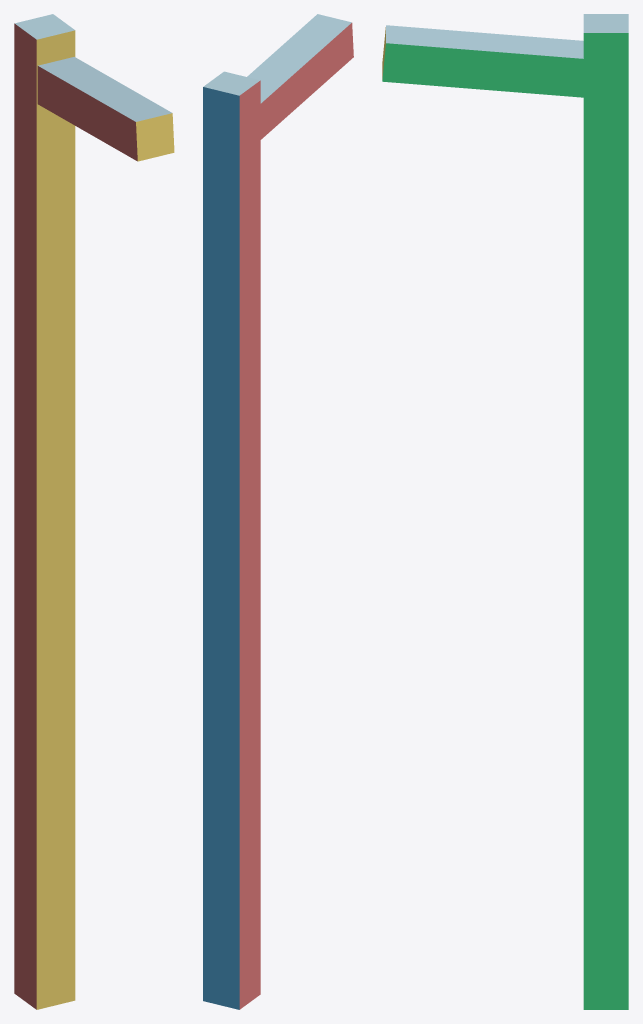
File: post.fbx
3 renders of one model, left to right at view 1: azimuth 30°, elevation 25°; view 2: azimuth 150°, elevation 25°; view 3: azimuth 270°, elevation 25°, orthographic. The views are drawn at different scales.
Parts seen in each view (by area): view 1: cuboid; view 2: cuboid; view 3: cuboid.
Part boxes in pixels (bbox=[...]): cuboid: bbox=[14, 14, 174, 1009]; cuboid: bbox=[203, 14, 353, 1009]; cuboid: bbox=[382, 14, 628, 1009].
Size of the model in its own units: 12.5 by 300 by 68.58.
Materials: 1 (1 with a texture image).
